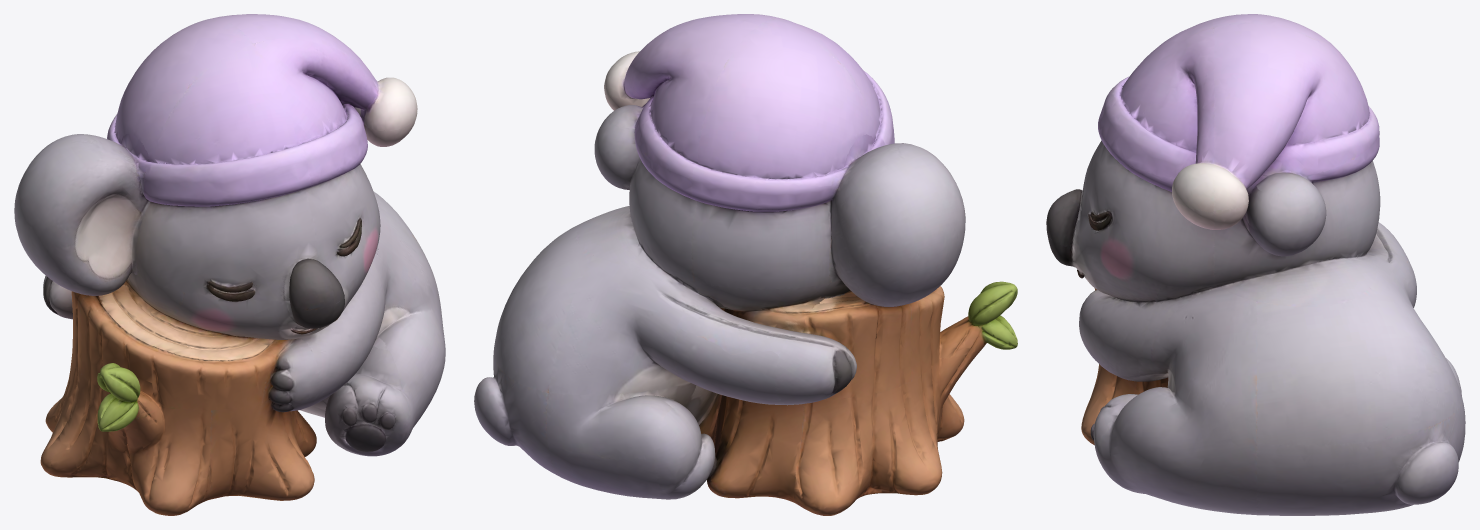
File: model-mobile-v001.glb
The picture shows the model from 3 angles, left to right: view 1: azimuth 30°, elevation 25°; view 2: azimuth 150°, elevation 25°; view 3: azimuth 270°, elevation 25°; orthographic projection. The views are drawn at different scales.
Parts seen in each view (by area): view 1: tmpn9hxb0olobj; view 2: tmpn9hxb0olobj; view 3: tmpn9hxb0olobj.
Part boxes in pixels (<box>): tmpn9hxb0olobj: <box>14,14,445,515</box>; tmpn9hxb0olobj: <box>474,14,1017,515</box>; tmpn9hxb0olobj: <box>1046,14,1465,515</box>.
Size of the model in its own units: 0.9998 by 0.9729 by 0.8647.
Materials: 1 (1 with a texture image).
